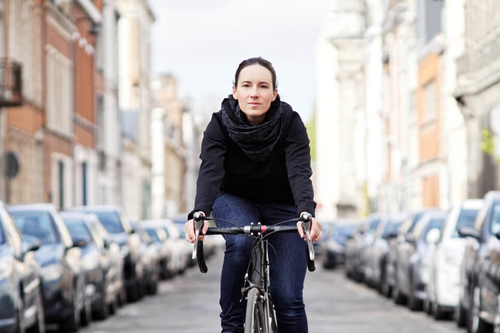bikerider: (180, 38, 326, 333)
